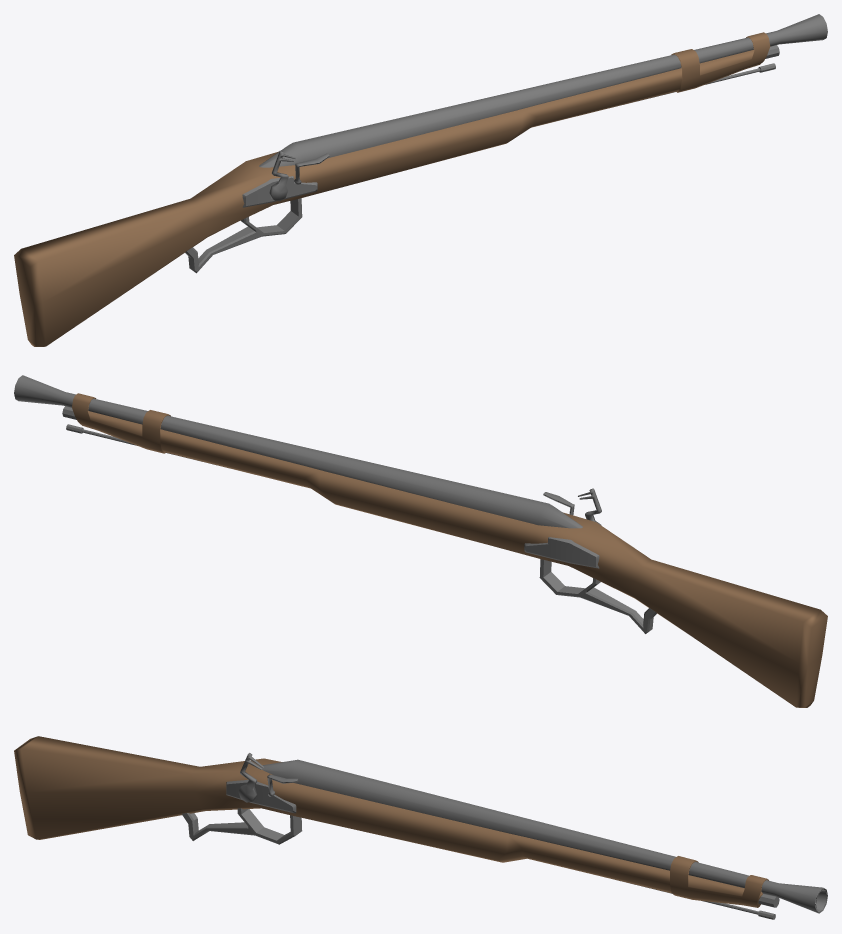
The model's file is HunterGun.fbx.
3 views of the same model, one above another, from view 1: azimuth 30°, elevation 25°; view 2: azimuth 150°, elevation 25°; view 3: azimuth 330°, elevation 25° (orthographic).
Visible parts, largest first — view 1: pCube1, pCylinder1, pCylinder3, pCube2; view 2: pCube1, pCylinder1, pCylinder3, pCube2; view 3: pCube1, pCylinder1, pCylinder3, pCube2, pCylinder5.
Boxes of the visible parts, left/top/right/bottom form: pCube1: left=14, top=32, right=770, bottom=346; pCylinder1: left=259, top=14, right=827, bottom=167; pCylinder3: left=185, top=198, right=302, bottom=273; pCube2: left=242, top=176, right=317, bottom=207; pCube1: left=72, top=393, right=827, bottom=707; pCylinder1: left=14, top=375, right=582, bottom=528; pCylinder3: left=539, top=559, right=656, bottom=633; pCube2: left=524, top=537, right=599, bottom=568; pCube1: left=14, top=736, right=768, bottom=907; pCylinder1: left=259, top=759, right=827, bottom=913; pCylinder3: left=182, top=808, right=302, bottom=844; pCube2: left=226, top=779, right=296, bottom=813; pCylinder5: left=238, top=753, right=263, bottom=802.
Size of the model in its own units: 6.7 by 1.21 by 0.4387.
